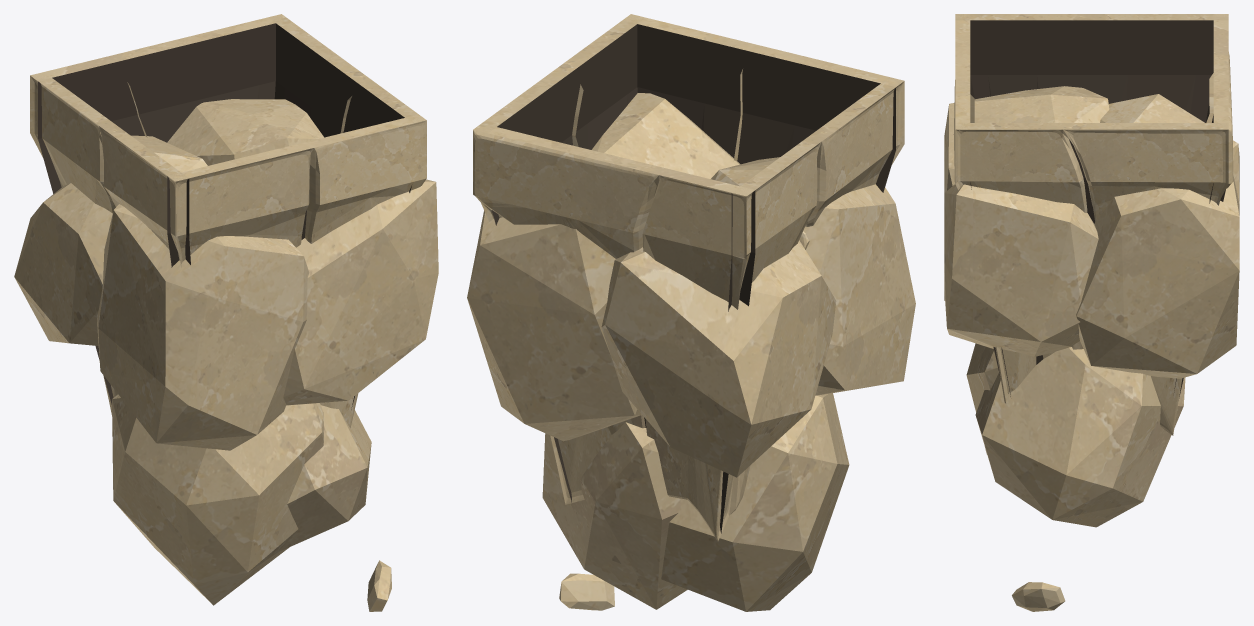
Rendered from ground_bottom_square_island_10.glb.
3 renders of one model, left to right at view 1: azimuth 30°, elevation 25°; view 2: azimuth 150°, elevation 25°; view 3: azimuth 270°, elevation 25°, orthographic. The views are drawn at different scales.
Parts seen in each view (by area): view 1: GroundBottomSquareIsland10_Body; view 2: GroundBottomSquareIsland10_Body; view 3: GroundBottomSquareIsland10_Body.
Boxes of the visible parts, x1=… form: GroundBottomSquareIsland10_Body: x1=14, y1=14, x2=438, y2=611; GroundBottomSquareIsland10_Body: x1=467, y1=14, x2=915, y2=611; GroundBottomSquareIsland10_Body: x1=944, y1=14, x2=1239, y2=611.
Bounding box in the file's own units: 1.08 × 1.96 × 1.08.
Materials: 15 (14 with a texture image).
